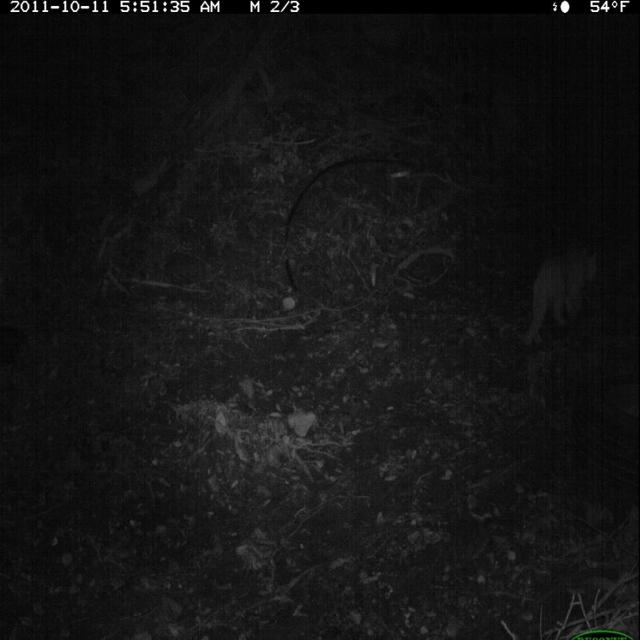cat: (510, 232, 611, 356)
